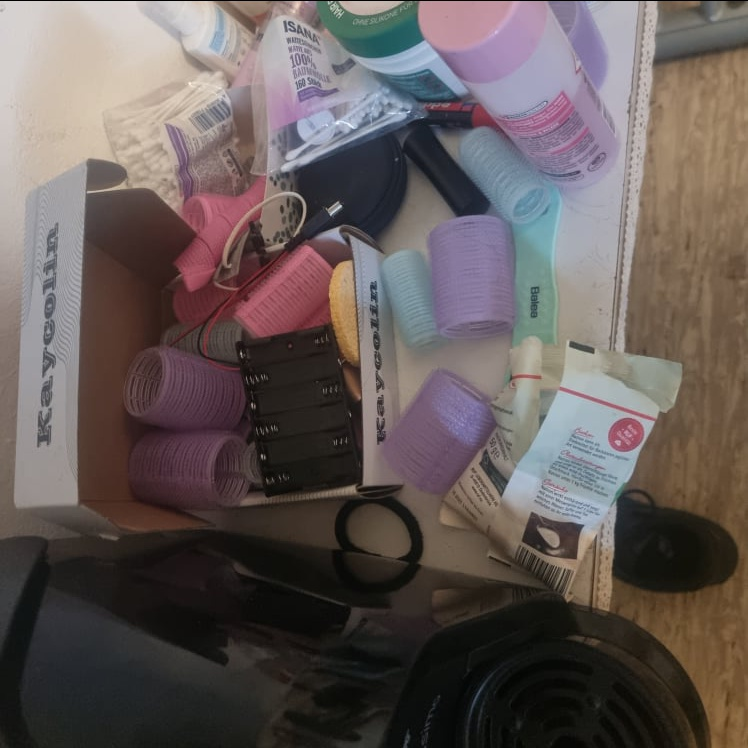BATTERY BOX: (235, 321, 361, 494)
